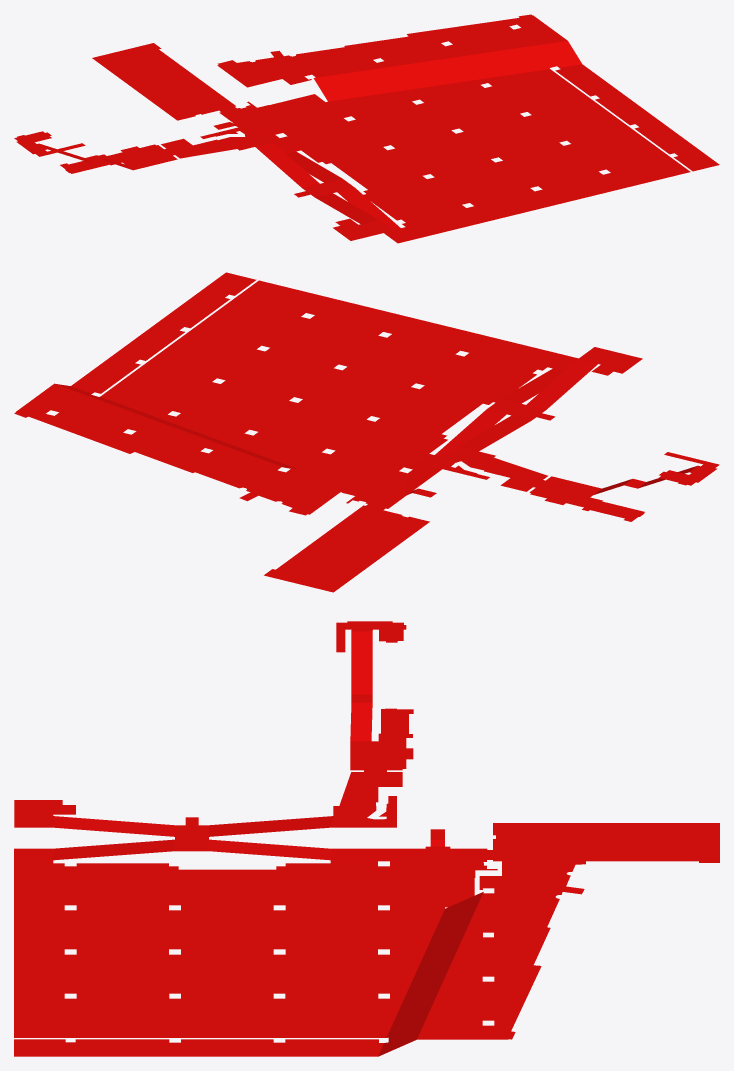
The model's file is navmesh.glb.
3 views of the same model, one above another, from view 1: azimuth 30°, elevation 25°; view 2: azimuth 150°, elevation 25°; view 3: azimuth 270°, elevation 25° (orthographic). The views are drawn at different scales.
Visible parts, largest first — view 1: navmesh; view 2: navmesh; view 3: navmesh.
Boxes of the visible parts, x1,y1,x2,y2 form: navmesh: [14, 14, 719, 243]; navmesh: [14, 272, 719, 592]; navmesh: [14, 621, 719, 1056].
Bounding box in the file's own units: 61.66 × 5.8 × 50.75.
